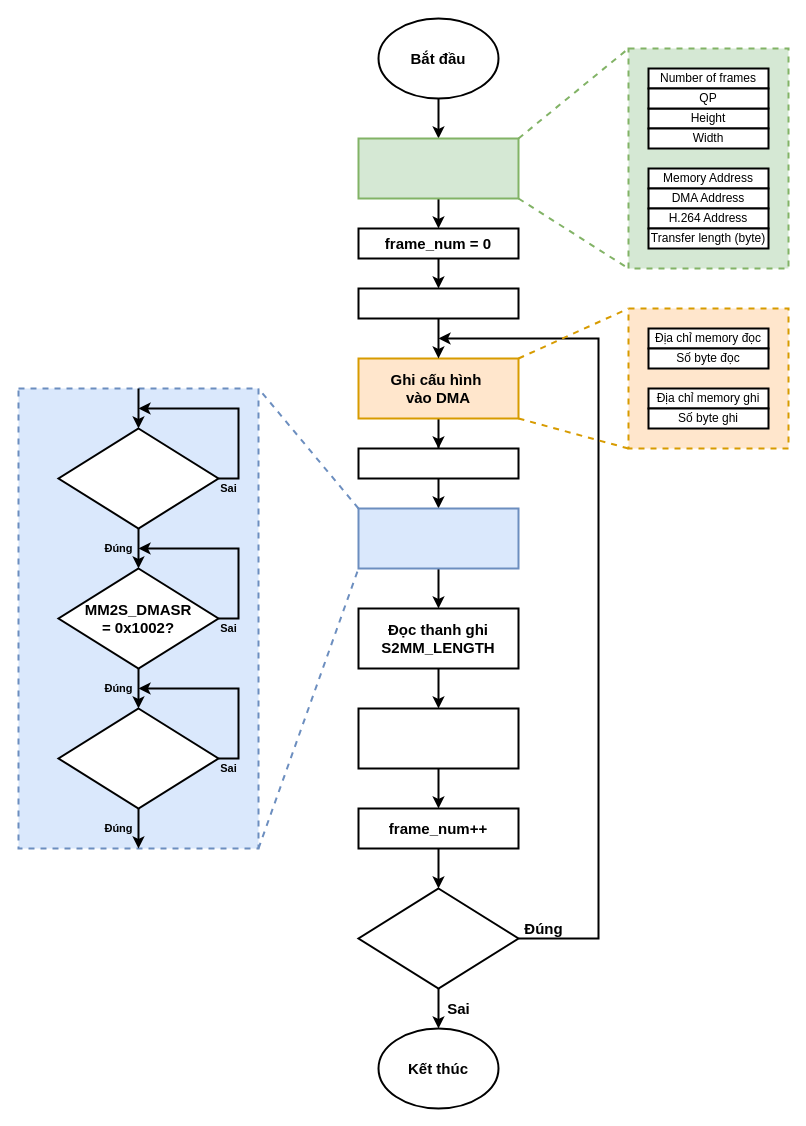
The diagram is 806 pixels wide and 1126 high, and some of its shapes have lost their labels. The shapes that lost their labels are listed below. From the top down, each one's centre as x and y in pixels, then its label:
At pixel 438 168: "Khởi tạo cấu hình ban đầu".
At pixel 438 303: "Khởi động DMA".
At pixel 138 478: "H.264 DONE_FLAG=1?".
At pixel 438 463: "Khởi động H.264".
At pixel 438 538: "Kiểm tra trạng thái hoàn thành khối H.264 & DMA".
At pixel 138 758: "S2MM_DMASR = 0x1002?".
At pixel 438 738: "Cập nhật địa chỉ đọc/ghi cho DMA".
At pixel 438 938: "frame_num < frame_total?".
